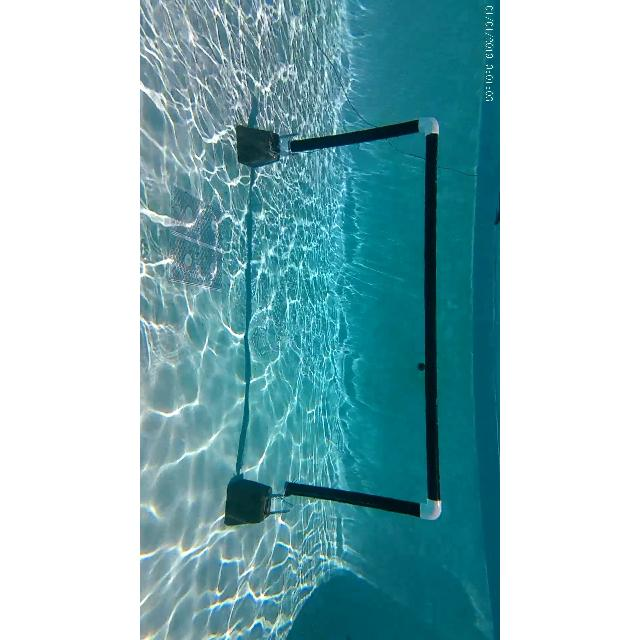prequal gate: (274, 117, 441, 525)
prequal gate leg l: (272, 118, 444, 156)
prequal gate leg r: (278, 476, 444, 522)
